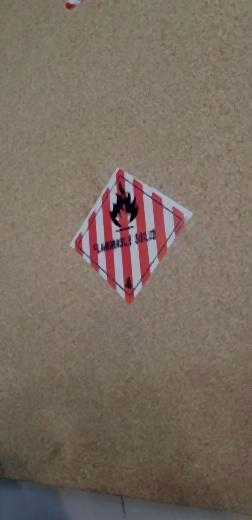flammable-solid: (68, 168, 194, 302)
